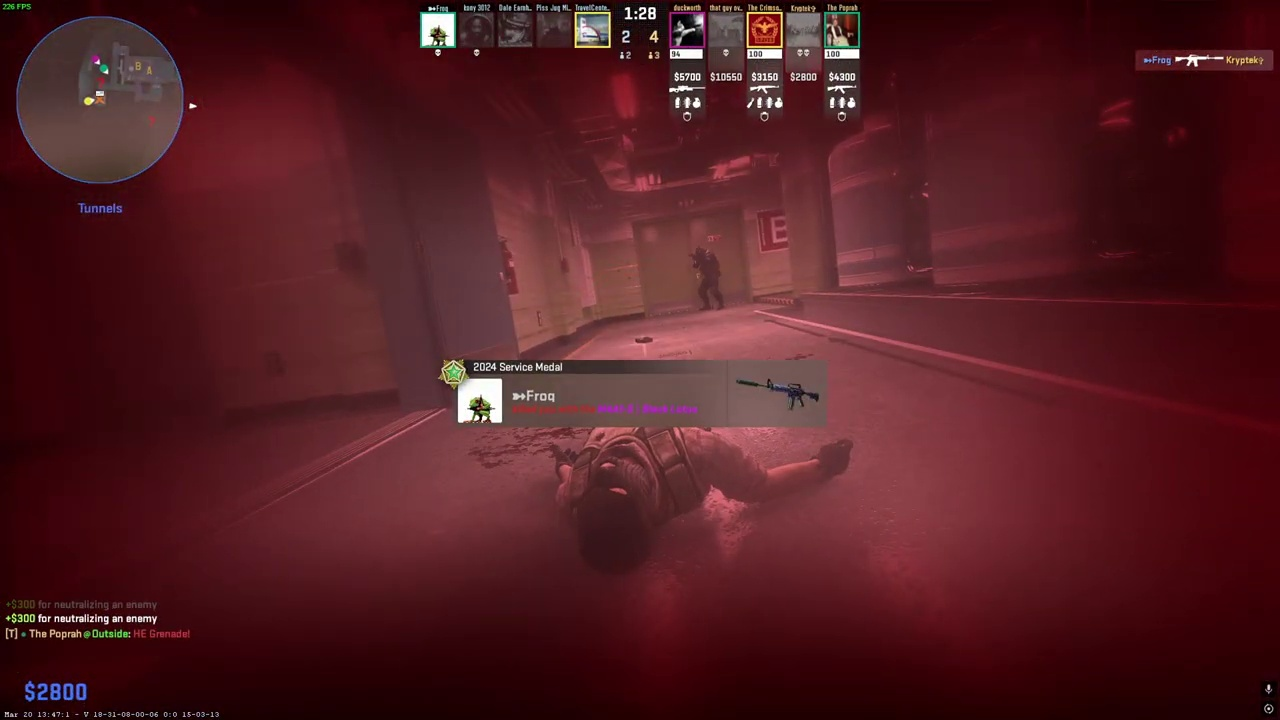CT: (691, 247, 724, 311)
